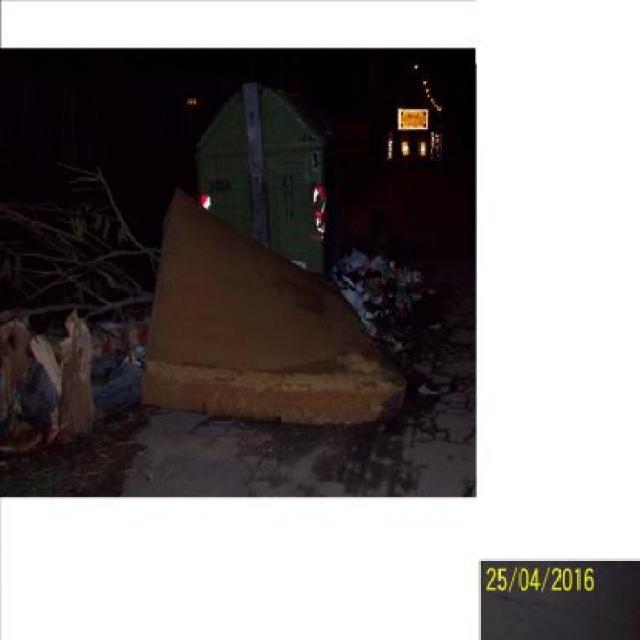garbage: (162, 203, 473, 426), (0, 311, 161, 436)
